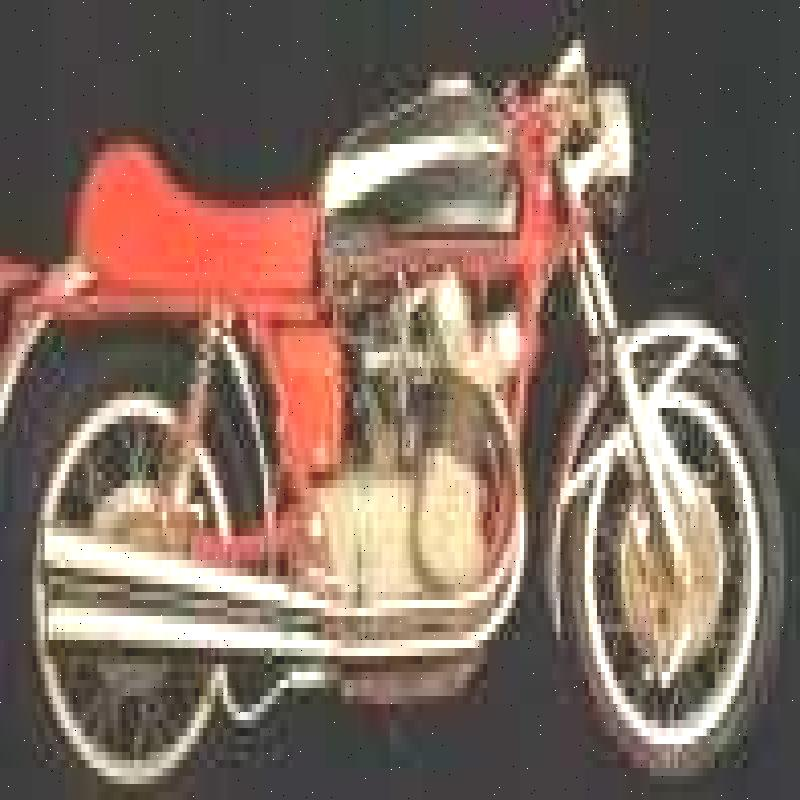bike: (0, 38, 780, 797)
